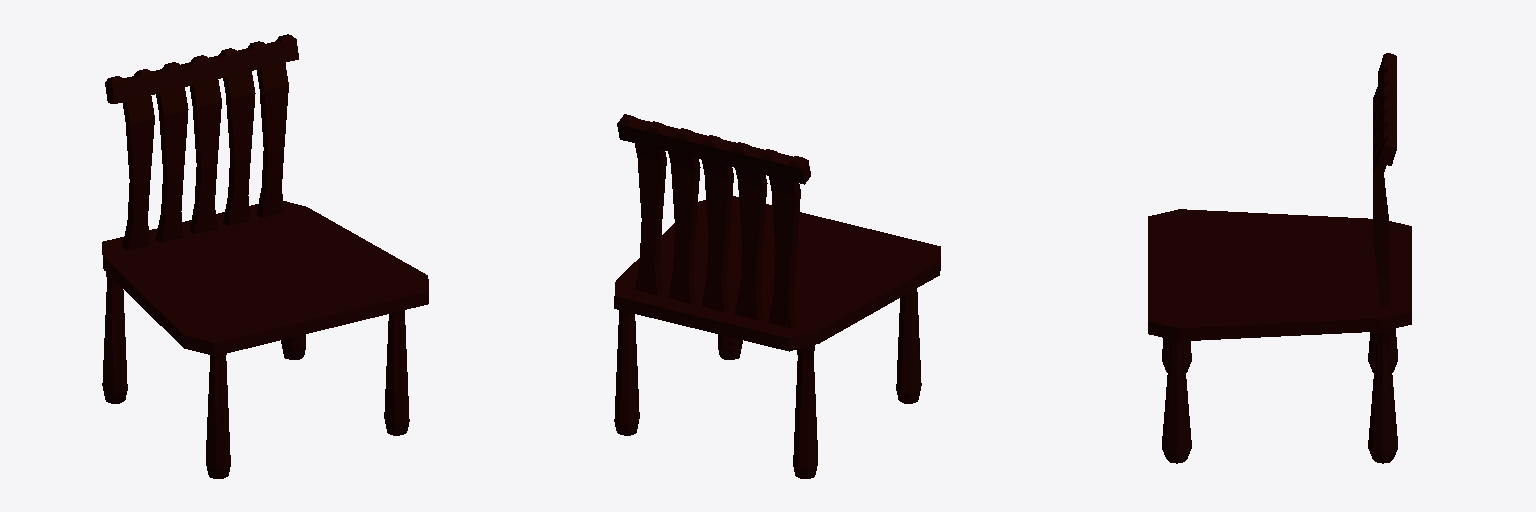
Rendered from Chair_Texture.obj.
3 renders of one model, left to right at view 1: azimuth 30°, elevation 25°; view 2: azimuth 150°, elevation 25°; view 3: azimuth 270°, elevation 25°, orthographic.
Visible parts, largest first — view 1: ChairSeat, ChairSeat back1 back2 back3 back5 back4, ChairSeat Leg1 Leg4 Leg3 Leg2, ChairSeat ChairTop; view 2: ChairSeat, ChairSeat back1 back2 back3 back5 back4, ChairSeat Leg1 Leg4 Leg3 Leg2, ChairSeat ChairTop; view 3: ChairSeat, ChairSeat Leg1 Leg4 Leg3 Leg2, ChairSeat back1 back2 back3 back5 back4, ChairSeat ChairTop.
Part boxes in pixels (bbox=[...]): ChairSeat: bbox=[102, 201, 428, 355]; ChairSeat back1 back2 back3 back5 back4: bbox=[122, 63, 288, 250]; ChairSeat Leg1 Leg4 Leg3 Leg2: bbox=[102, 272, 409, 478]; ChairSeat ChairTop: bbox=[105, 34, 298, 103]; ChairSeat: bbox=[614, 196, 940, 351]; ChairSeat back1 back2 back3 back5 back4: bbox=[634, 143, 800, 327]; ChairSeat Leg1 Leg4 Leg3 Leg2: bbox=[614, 289, 921, 478]; ChairSeat ChairTop: bbox=[617, 114, 810, 184]; ChairSeat: bbox=[1148, 209, 1411, 341]; ChairSeat Leg1 Leg4 Leg3 Leg2: bbox=[1162, 328, 1397, 463]; ChairSeat back1 back2 back3 back5 back4: bbox=[1373, 87, 1389, 306]; ChairSeat ChairTop: bbox=[1378, 53, 1396, 165].
Bounding box in the file's own units: 5.47 × 6.83 × 5.13.